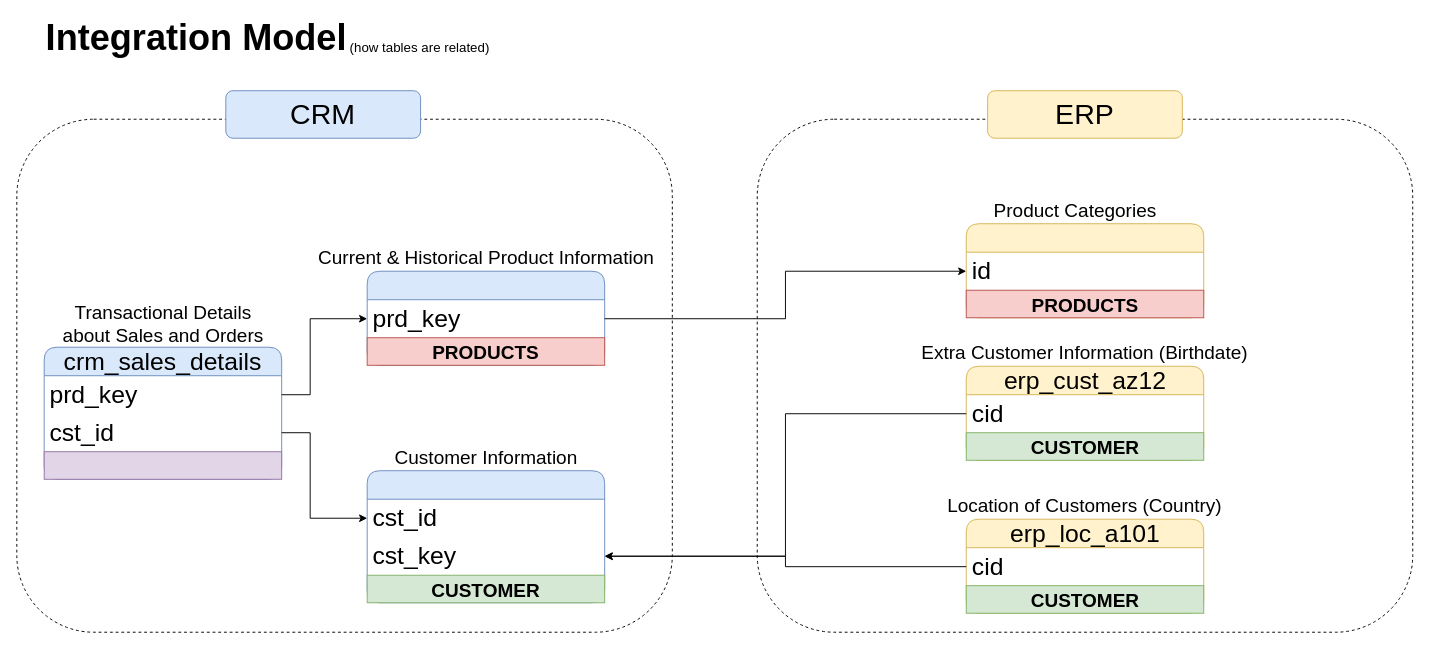
Image size: 1430x649. Some labels were removed from this diagram. The shapes that lost their labels are listed below. From the top down, each one's box as (x1, y1, x2, y2) in pixels, then its label:
(965, 223, 1204, 318): erp_px_cat_g1v2
(366, 270, 605, 365): crm_prd_info
(43, 451, 282, 479): SALES
(366, 470, 605, 603): crm_cst_info
